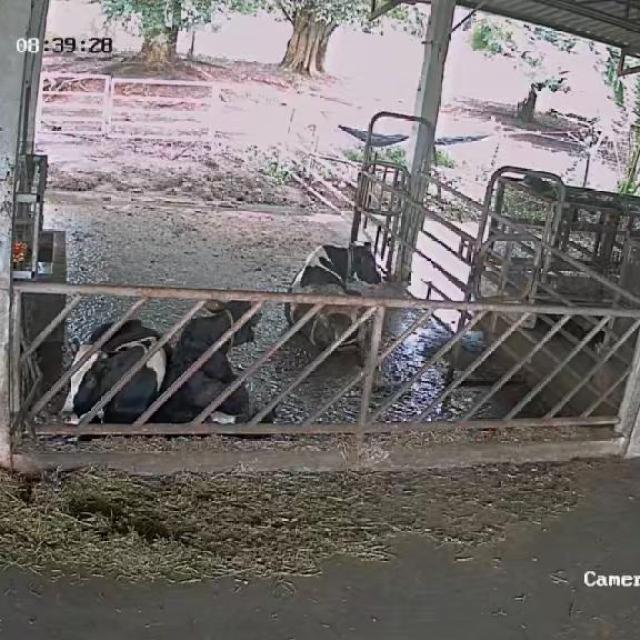lying down: (57, 311, 175, 432), (175, 284, 266, 426), (287, 226, 381, 351)
